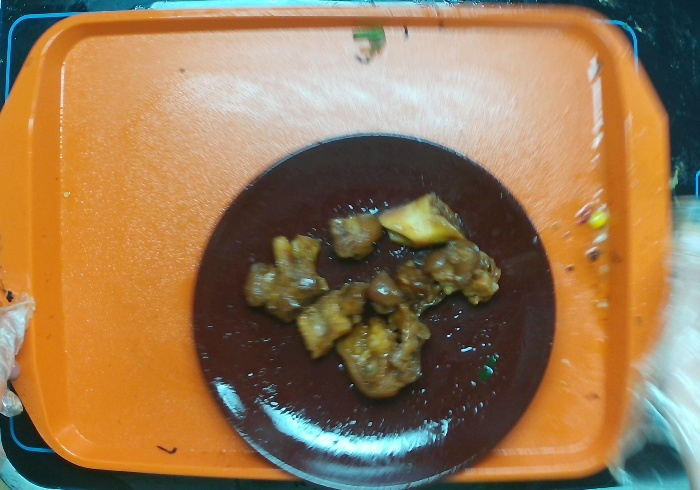HZYJPL-Ka_Fei_Yuan_Pan: (189, 128, 559, 490)
